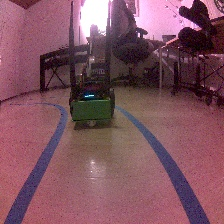rob: (67, 60, 115, 128)
